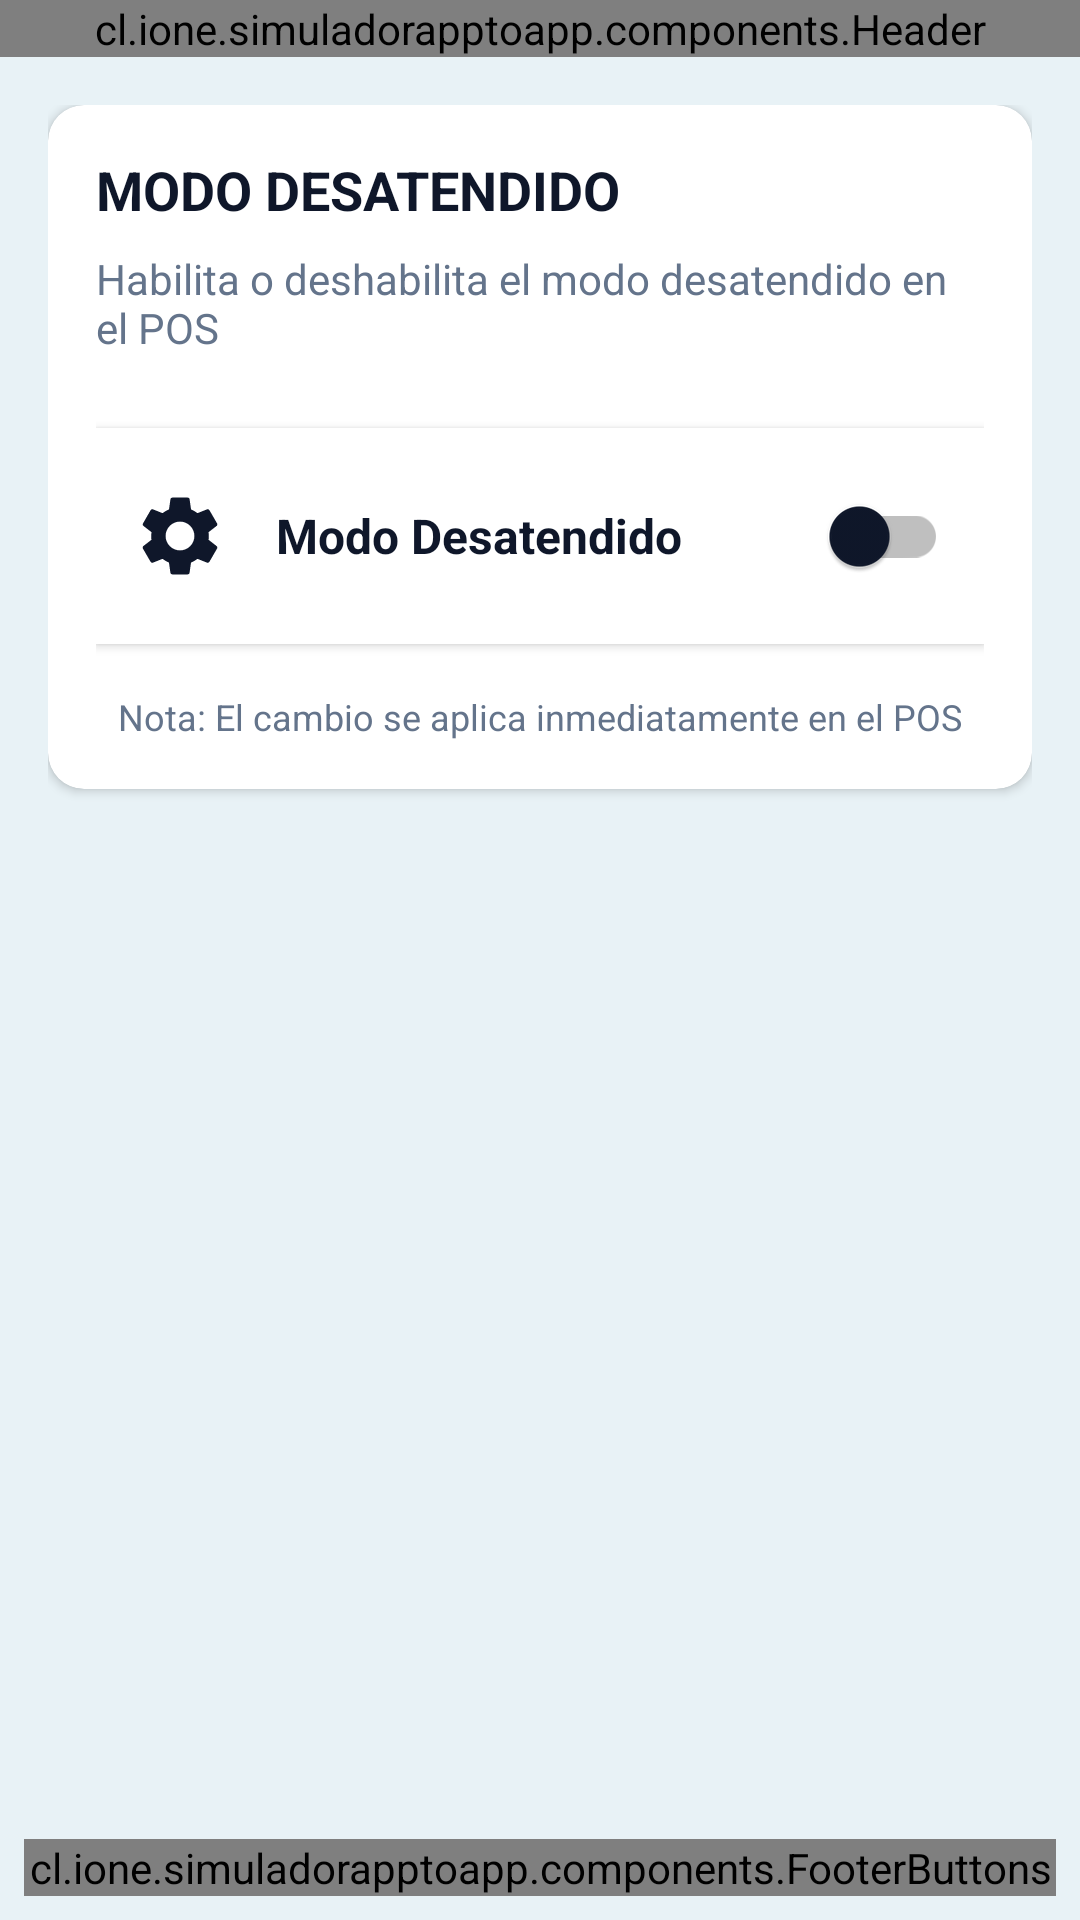

Icon bounding boxes for this 1080*1920 phone screenshot, format detection(x1, y1, x2, y2):
settings: detection(142, 497, 218, 575)
